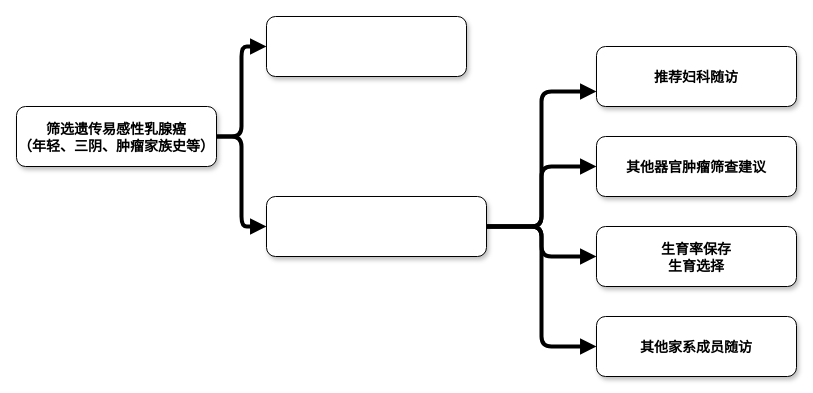
The diagram is 813 pixels wide and 393 high, and some of its shapes have lost their labels. The centre of each missing label's shape, as x and y in pixels:
"个体化治疗" belongs at point 367,48.
"遗传咨询 基因筛查" belongs at point 377,228.
